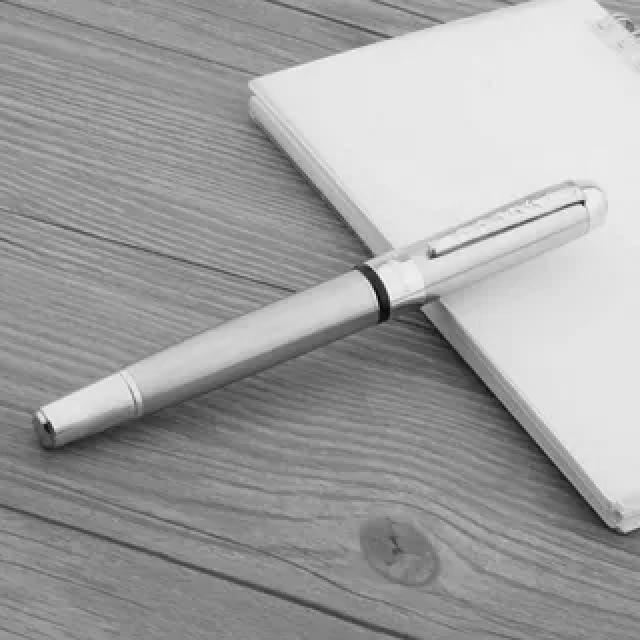pencil: (29, 166, 623, 482)
